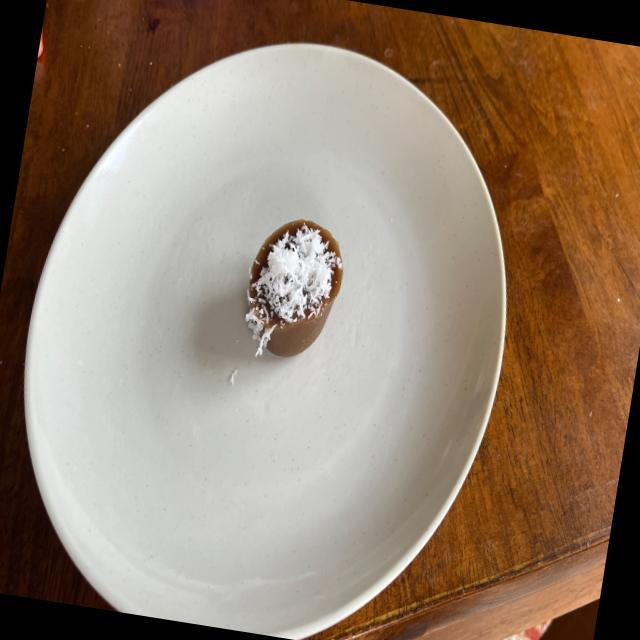Kuih lompang: (247, 220, 343, 357)
